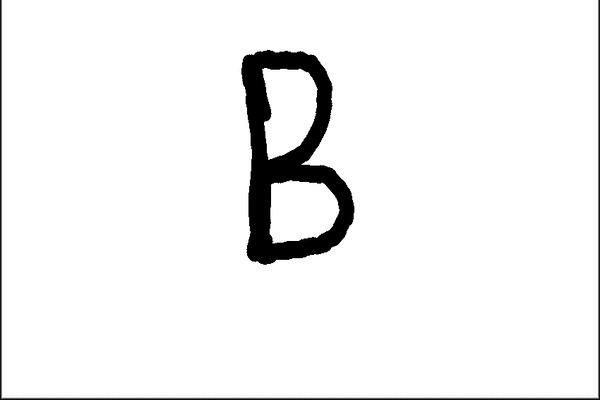B: (231, 42, 362, 270)
